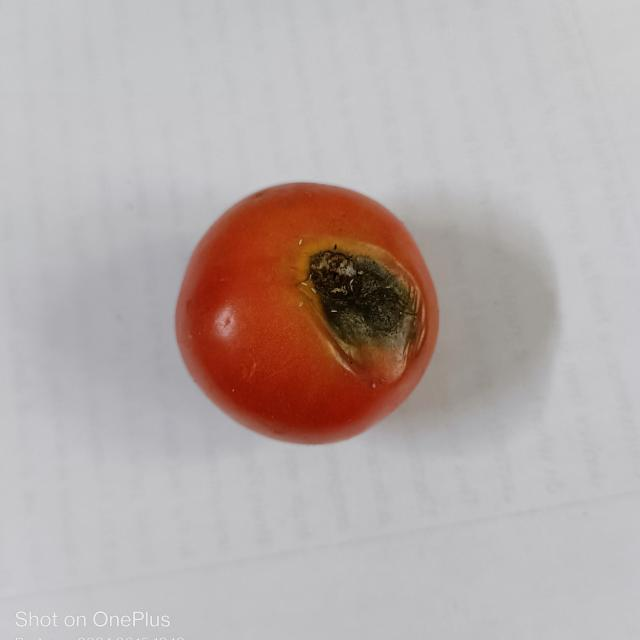Anthrocnose: (292, 250, 429, 380)
